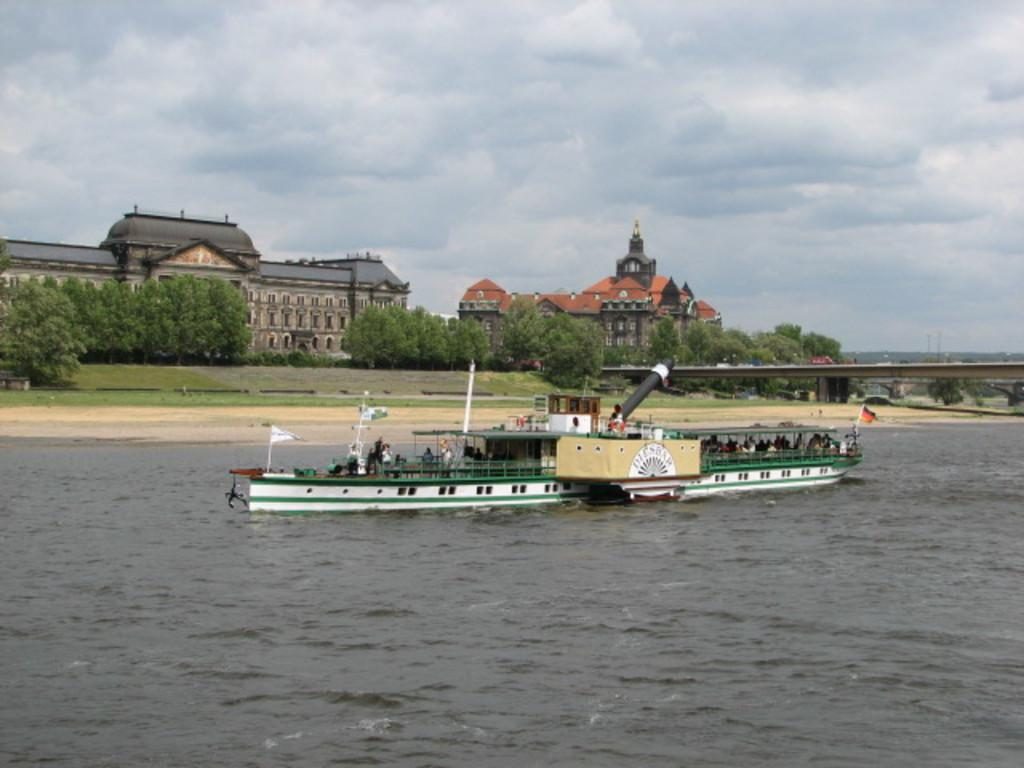PassengerShip: (223, 372, 875, 520)
